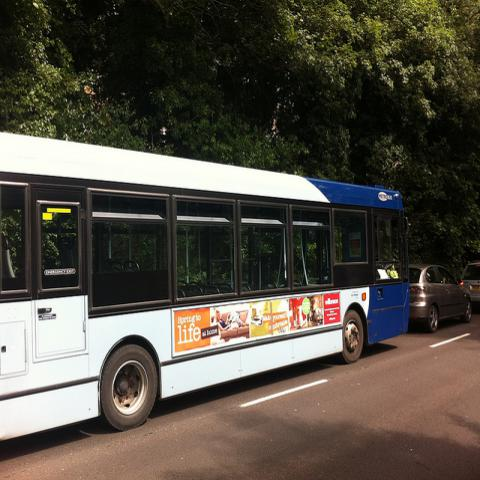bus: (0, 130, 411, 444)
car: (409, 262, 474, 332), (460, 264, 480, 302)
